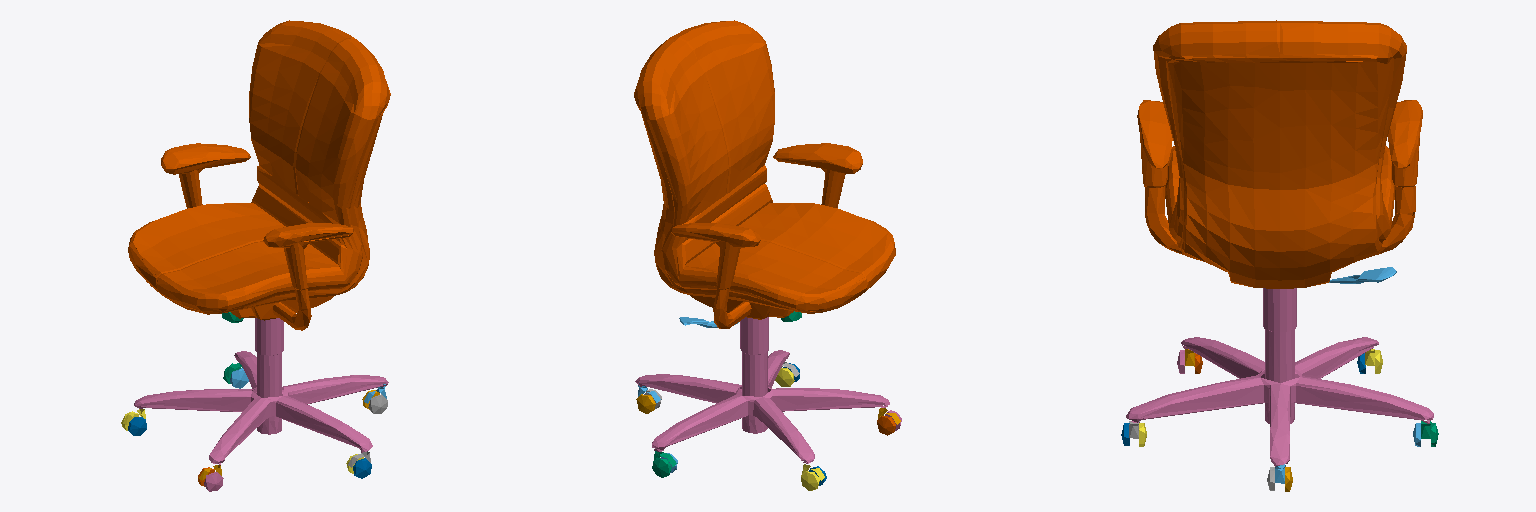
The robot description file, URDF, robot "partnet_341c9b0583d31770492d9da2668ec34c":
<?xml version="1.0" encoding="utf-8"?>
<robot name="partnet_341c9b0583d31770492d9da2668ec34c">
 <link name="base"/>
 <link name="link_0">
  <visual name="lever-41">
   <origin xyz="0.08169842068105933 0.25677886419599255 0"/>
   <geometry>
    <mesh filename="textured_objs/original-44.obj"/>
   </geometry>
  </visual>
  <visual name="lever-41">
   <origin xyz="0.08169842068105933 0.25677886419599255 0"/>
   <geometry>
    <mesh filename="textured_objs/original-43.obj"/>
   </geometry>
  </visual>
  <collision>
   <geometry>
    <mesh filename="cvx_objs/link_0.obj"/>
   </geometry>
  </collision>
 </link>
 <joint name="joint_0" type="revolute">
  <origin xyz="-0.09527135251130261 -0.25677886419599255 -0.034372763496528506"/>
  <axis xyz="0 0 1"/>
  <child link="link_0"/>
  <parent link="link_12"/>
  <limit lower="0.0" upper="0.3490658503988659"/>
 </joint>
 <link name="link_1">
  <visual name="knob-42">
   <origin xyz="-0.013645622519959788 0 -0.19128354446354384"/>
   <geometry>
    <mesh filename="textured_objs/original-45.obj"/>
   </geometry>
  </visual>
  <collision>
   <geometry>
    <mesh filename="cvx_objs/link_1.obj"/>
   </geometry>
  </collision>
 </link>
 <joint name="joint_1" type="continuous">
  <origin xyz="7.269068971649598e-05 0 0.15691078096701533"/>
  <axis xyz="0 1 0"/>
  <child link="link_1"/>
  <parent link="link_12"/>
 </joint>
 <link name="link_2">
  <visual name="wheel-39">
   <origin xyz="0 0.7938941896915044 0.09078165648146667"/>
   <geometry>
    <mesh filename="textured_objs/original-37.obj"/>
   </geometry>
  </visual>
  <collision>
   <geometry>
    <mesh filename="cvx_objs/link_2.obj"/>
   </geometry>
  </collision>
 </link>
 <joint name="joint_2" type="continuous">
  <origin xyz="-0.4804058032034338 -0.7938941896915044 0.02389957364683236"/>
  <axis xyz="1 0 0"/>
  <child link="link_2"/>
  <parent link="link_14"/>
 </joint>
 <link name="link_3">
  <visual name="wheel-40">
   <origin xyz="0 0.7938941896915044 0.09078165648146667"/>
   <geometry>
    <mesh filename="textured_objs/original-38.obj"/>
   </geometry>
  </visual>
  <collision>
   <geometry>
    <mesh filename="cvx_objs/link_3.obj"/>
   </geometry>
  </collision>
 </link>
 <joint name="joint_3" type="continuous">
  <origin xyz="-0.4804058032034338 -0.7938941896915044 0.02389957364683236"/>
  <axis xyz="1 0 0"/>
  <child link="link_3"/>
  <parent link="link_14"/>
 </joint>
 <link name="link_4">
  <visual name="wheel-35">
   <origin xyz="0 0.7933745990652205 -0.4595298193423211"/>
   <geometry>
    <mesh filename="textured_objs/original-32.obj"/>
   </geometry>
  </visual>
  <collision>
   <geometry>
    <mesh filename="cvx_objs/link_4.obj"/>
   </geometry>
  </collision>
 </link>
 <joint name="joint_4" type="continuous">
  <origin xyz="-0.30371666124408514 -0.7933745990652205 0.02368880415553476"/>
  <axis xyz="1 0 0"/>
  <child link="link_4"/>
  <parent link="link_15"/>
 </joint>
 <link name="link_5">
  <visual name="wheel-36">
   <origin xyz="0 0.7933745990652205 -0.4595298193423211"/>
   <geometry>
    <mesh filename="textured_objs/original-33.obj"/>
   </geometry>
  </visual>
  <collision>
   <geometry>
    <mesh filename="cvx_objs/link_5.obj"/>
   </geometry>
  </collision>
 </link>
 <joint name="joint_5" type="continuous">
  <origin xyz="-0.30371666124408514 -0.7933745990652205 0.02368880415553476"/>
  <axis xyz="1 0 0"/>
  <child link="link_5"/>
  <parent link="link_15"/>
 </joint>
 <link name="link_6">
  <visual name="wheel-31">
   <origin xyz="0 0.7933761769550939 0.4307973143593477"/>
   <geometry>
    <mesh filename="textured_objs/original-21.obj"/>
   </geometry>
  </visual>
  <collision>
   <geometry>
    <mesh filename="cvx_objs/link_6.obj"/>
   </geometry>
  </collision>
 </link>
 <joint name="joint_6" type="continuous">
  <origin xyz="-0.013573 -0.7933761769550939 0.028040185640652304"/>
  <axis xyz="1 0 0"/>
  <child link="link_6"/>
  <parent link="link_16"/>
 </joint>
 <link name="link_7">
  <visual name="wheel-32">
   <origin xyz="0 0.7933761769550939 0.4307973143593477"/>
   <geometry>
    <mesh filename="textured_objs/original-20.obj"/>
   </geometry>
  </visual>
  <collision>
   <geometry>
    <mesh filename="cvx_objs/link_7.obj"/>
   </geometry>
  </collision>
 </link>
 <joint name="joint_7" type="continuous">
  <origin xyz="-0.013573 -0.7933761769550939 0.028040185640652304"/>
  <axis xyz="1 0 0"/>
  <child link="link_7"/>
  <parent link="link_16"/>
 </joint>
 <link name="link_8">
  <visual name="wheel-27">
   <origin xyz="0 0.7939088138577977 0.0907147196115412"/>
   <geometry>
    <mesh filename="textured_objs/original-24.obj"/>
   </geometry>
  </visual>
  <collision>
   <geometry>
    <mesh filename="cvx_objs/link_8.obj"/>
   </geometry>
  </collision>
 </link>
 <joint name="joint_8" type="continuous">
  <origin xyz="0.45134597841360813 -0.7939088138577977 0.012394890338140313"/>
  <axis xyz="1 0 0"/>
  <child link="link_8"/>
  <parent link="link_17"/>
 </joint>
 <link name="link_9">
  <visual name="wheel-28">
   <origin xyz="0 0.7939088138577977 0.0907147196115412"/>
   <geometry>
    <mesh filename="textured_objs/original-23.obj"/>
   </geometry>
  </visual>
  <collision>
   <geometry>
    <mesh filename="cvx_objs/link_9.obj"/>
   </geometry>
  </collision>
 </link>
 <joint name="joint_9" type="continuous">
  <origin xyz="0.45134597841360813 -0.7939088138577977 0.012394890338140313"/>
  <axis xyz="1 0 0"/>
  <child link="link_9"/>
  <parent link="link_17"/>
 </joint>
 <link name="link_10">
  <visual name="wheel-22">
   <origin xyz="0 0.7939044840406075 -0.4606405983330391"/>
   <geometry>
    <mesh filename="textured_objs/original-27.obj"/>
   </geometry>
  </visual>
  <collision>
   <geometry>
    <mesh filename="cvx_objs/link_10.obj"/>
   </geometry>
  </collision>
 </link>
 <joint name="joint_10" type="continuous">
  <origin xyz="0.27654458395902237 -0.7939044840406075 0.025896178388477575"/>
  <axis xyz="1 0 0"/>
  <child link="link_10"/>
  <parent link="link_18"/>
 </joint>
 <link name="link_11">
  <visual name="wheel-23">
   <origin xyz="0 0.7939044840406075 -0.4606405983330391"/>
   <geometry>
    <mesh filename="textured_objs/original-28.obj"/>
   </geometry>
  </visual>
  <collision>
   <geometry>
    <mesh filename="cvx_objs/link_11.obj"/>
   </geometry>
  </collision>
 </link>
 <joint name="joint_11" type="continuous">
  <origin xyz="0.27654458395902237 -0.7939044840406075 0.025896178388477575"/>
  <axis xyz="1 0 0"/>
  <child link="link_11"/>
  <parent link="link_18"/>
 </joint>
 <link name="link_12">
  <visual name="back_soft_surface-54">
   <origin xyz="-0.013572931830243292 0 -0.034372763496528506"/>
   <geometry>
    <mesh filename="textured_objs/new-12.obj"/>
   </geometry>
  </visual>
  <visual name="armrest_hard_surface-50">
   <origin xyz="-0.013572931830243292 0 -0.034372763496528506"/>
   <geometry>
    <mesh filename="textured_objs/new-19.obj"/>
   </geometry>
  </visual>
  <visual name="arm_vertical_bar-51">
   <origin xyz="-0.013572931830243292 0 -0.034372763496528506"/>
   <geometry>
    <mesh filename="textured_objs/new-20.obj"/>
   </geometry>
  </visual>
  <visual name="arm_horizontal_bar-52">
   <origin xyz="-0.013572931830243292 0 -0.034372763496528506"/>
   <geometry>
    <mesh filename="textured_objs/new-17.obj"/>
   </geometry>
  </visual>
  <visual name="armrest_hard_surface-47">
   <origin xyz="-0.013572931830243292 0 -0.034372763496528506"/>
   <geometry>
    <mesh filename="textured_objs/new-16.obj"/>
   </geometry>
  </visual>
  <visual name="arm_vertical_bar-48">
   <origin xyz="-0.013572931830243292 0 -0.034372763496528506"/>
   <geometry>
    <mesh filename="textured_objs/new-22.obj"/>
   </geometry>
  </visual>
  <visual name="arm_horizontal_bar-49">
   <origin xyz="-0.013572931830243292 0 -0.034372763496528506"/>
   <geometry>
    <mesh filename="textured_objs/new-14.obj"/>
   </geometry>
  </visual>
  <visual name="seat_soft_surface-46">
   <origin xyz="-0.013572931830243292 0 -0.034372763496528506"/>
   <geometry>
    <mesh filename="textured_objs/new-25.obj"/>
   </geometry>
  </visual>
  <visual name="seat_support-45">
   <origin xyz="-0.013572931830243292 0 -0.034372763496528506"/>
   <geometry>
    <mesh filename="textured_objs/new-10.obj"/>
   </geometry>
  </visual>
  <visual name="mounting_plate-43">
   <origin xyz="-0.013572931830243292 0 -0.034372763496528506"/>
   <geometry>
    <mesh filename="textured_objs/original-42.obj"/>
   </geometry>
  </visual>
  <collision>
   <geometry>
    <mesh filename="cvx_objs/link_12.obj"/>
   </geometry>
  </collision>
 </link>
 <joint name="joint_12" type="continuous">
  <origin xyz="0.0 0 0.0"/>
  <axis xyz="0 1 0"/>
  <child link="link_12"/>
  <parent link="link_12_helper"/>
 </joint>
 <link name="link_13">
  <visual name="central_support-8">
   <origin xyz="0 0 0"/>
   <geometry>
    <mesh filename="textured_objs/original-19.obj"/>
   </geometry>
  </visual>
  <visual name="central_support-8">
   <origin xyz="0 0 0"/>
   <geometry>
    <mesh filename="textured_objs/original-18.obj"/>
   </geometry>
  </visual>
  <visual name="leg-11">
   <origin xyz="0 0 0"/>
   <geometry>
    <mesh filename="textured_objs/new-3.obj"/>
   </geometry>
  </visual>
  <visual name="leg-12">
   <origin xyz="0 0 0"/>
   <geometry>
    <mesh filename="textured_objs/new-4.obj"/>
   </geometry>
  </visual>
  <visual name="leg-13">
   <origin xyz="0 0 0"/>
   <geometry>
    <mesh filename="textured_objs/new-0.obj"/>
   </geometry>
  </visual>
  <visual name="leg-14">
   <origin xyz="0 0 0"/>
   <geometry>
    <mesh filename="textured_objs/new-1.obj"/>
   </geometry>
  </visual>
  <visual name="leg-15">
   <origin xyz="0 0 0"/>
   <geometry>
    <mesh filename="textured_objs/new-2.obj"/>
   </geometry>
  </visual>
  <collision>
   <geometry>
    <mesh filename="cvx_objs/link_13.obj"/>
   </geometry>
  </collision>
 </link>
 <joint name="joint_13" type="fixed">
  <origin rpy="1.570796326794897 0 -1.570796326794897" xyz="0 0 0"/>
  <child link="link_13"/>
  <parent link="base"/>
 </joint>
 <link name="link_14">
  <visual name="caster_yoke-37">
   <origin xyz="-0.4804058032034338 0 0.11468123012829903"/>
   <geometry>
    <mesh filename="textured_objs/original-39.obj"/>
   </geometry>
  </visual>
  <visual name="caster_stem-38">
   <origin xyz="-0.4804058032034338 0 0.11468123012829903"/>
   <geometry>
    <mesh filename="textured_objs/original-40.obj"/>
   </geometry>
  </visual>
  <collision>
   <geometry>
    <mesh filename="cvx_objs/link_14.obj"/>
   </geometry>
  </collision>
 </link>
 <joint name="joint_14" type="continuous">
  <origin xyz="0.4804058032034338 0 -0.11468123012829903"/>
  <axis xyz="0 1 0"/>
  <child link="link_14"/>
  <parent link="link_13"/>
 </joint>
 <link name="link_15">
  <visual name="caster_yoke-33">
   <origin xyz="-0.30371666124408514 0 -0.43584101518678636"/>
   <geometry>
    <mesh filename="textured_objs/original-34.obj"/>
   </geometry>
  </visual>
  <visual name="caster_stem-34">
   <origin xyz="-0.30371666124408514 0 -0.43584101518678636"/>
   <geometry>
    <mesh filename="textured_objs/original-35.obj"/>
   </geometry>
  </visual>
  <collision>
   <geometry>
    <mesh filename="cvx_objs/link_15.obj"/>
   </geometry>
  </collision>
 </link>
 <joint name="joint_15" type="continuous">
  <origin xyz="0.30371666124408514 0 0.43584101518678636"/>
  <axis xyz="0 1 0"/>
  <child link="link_15"/>
  <parent link="link_13"/>
 </joint>
 <link name="link_16">
  <visual name="caster_yoke-29">
   <origin xyz="-0.013573 0 0.4588375"/>
   <geometry>
    <mesh filename="textured_objs/original-22.obj"/>
   </geometry>
  </visual>
  <visual name="caster_stem-30">
   <origin xyz="-0.013573 0 0.4588375"/>
   <geometry>
    <mesh filename="textured_objs/original-7.obj"/>
   </geometry>
  </visual>
  <collision>
   <geometry>
    <mesh filename="cvx_objs/link_16.obj"/>
   </geometry>
  </collision>
 </link>
 <joint name="joint_16" type="continuous">
  <origin xyz="0.013573 0 -0.4588375"/>
  <axis xyz="0 1 0"/>
  <child link="link_16"/>
  <parent link="link_13"/>
 </joint>
 <link name="link_17">
  <visual name="caster_yoke-25">
   <origin xyz="0.45134597841360813 0 0.10310960994968152"/>
   <geometry>
    <mesh filename="textured_objs/original-25.obj"/>
   </geometry>
  </visual>
  <visual name="caster_stem-26">
   <origin xyz="0.45134597841360813 0 0.10310960994968152"/>
   <geometry>
    <mesh filename="textured_objs/original-26.obj"/>
   </geometry>
  </visual>
  <collision>
   <geometry>
    <mesh filename="cvx_objs/link_17.obj"/>
   </geometry>
  </collision>
 </link>
 <joint name="joint_17" type="continuous">
  <origin xyz="-0.45134597841360813 0 -0.10310960994968152"/>
  <axis xyz="0 1 0"/>
  <child link="link_17"/>
  <parent link="link_13"/>
 </joint>
 <link name="link_18">
  <visual name="caster_yoke-21">
   <origin xyz="0.27654458395902237 0 -0.43474441994456153"/>
   <geometry>
    <mesh filename="textured_objs/original-29.obj"/>
   </geometry>
  </visual>
  <visual name="caster_stem-24">
   <origin xyz="0.27654458395902237 0 -0.43474441994456153"/>
   <geometry>
    <mesh filename="textured_objs/original-30.obj"/>
   </geometry>
  </visual>
  <collision>
   <geometry>
    <mesh filename="cvx_objs/link_18.obj"/>
   </geometry>
  </collision>
 </link>
 <joint name="joint_18" type="continuous">
  <origin xyz="-0.27654458395902237 0 0.43474441994456153"/>
  <axis xyz="0 1 0"/>
  <child link="link_18"/>
  <parent link="link_13"/>
 </joint>
 <link name="link_12_helper"/>
 <joint name="joint_19" type="prismatic">
  <origin xyz="0.013572931830243292 0 0.034372763496528506"/>
  <axis xyz="0 -1 0"/>
  <child link="link_12_helper"/>
  <parent link="link_13"/>
  <limit lower="0" upper="0.1"/>
 </joint>
</robot>

--- Facts derived from the render (not from the file) ---
Views: 3 orthographic renders of the robot side by side, from view 1: azimuth 30°, elevation 25°; view 2: azimuth 150°, elevation 25°; view 3: azimuth 270°, elevation 25°.
Robot: partnet_341c9b0583d31770492d9da2668ec34c — 21 links, 20 joints (1 revolute, 17 continuous, 1 prismatic, 1 fixed); root link base; default pose: all joints at 0.
Links seen in each view (by area): view 1: link_12, link_13; view 2: link_12, link_13; view 3: link_12, link_13, link_0.
Link boxes in pixels (left/top/right/bottom): link_12: left=128, top=20, right=390, bottom=330; link_13: left=134, top=318, right=388, bottom=464; link_12: left=634, top=20, right=895, bottom=328; link_13: left=635, top=317, right=889, bottom=463; link_12: left=1137, top=20, right=1422, bottom=288; link_13: left=1126, top=288, right=1433, bottom=466; link_0: left=1329, top=267, right=1396, bottom=283.
Size in the robot's own frame: 1.02 by 1.02 by 1.6 metres.
Meshes: 40 distinct files referenced, 40 mesh visuals loaded (40 OBJ).
